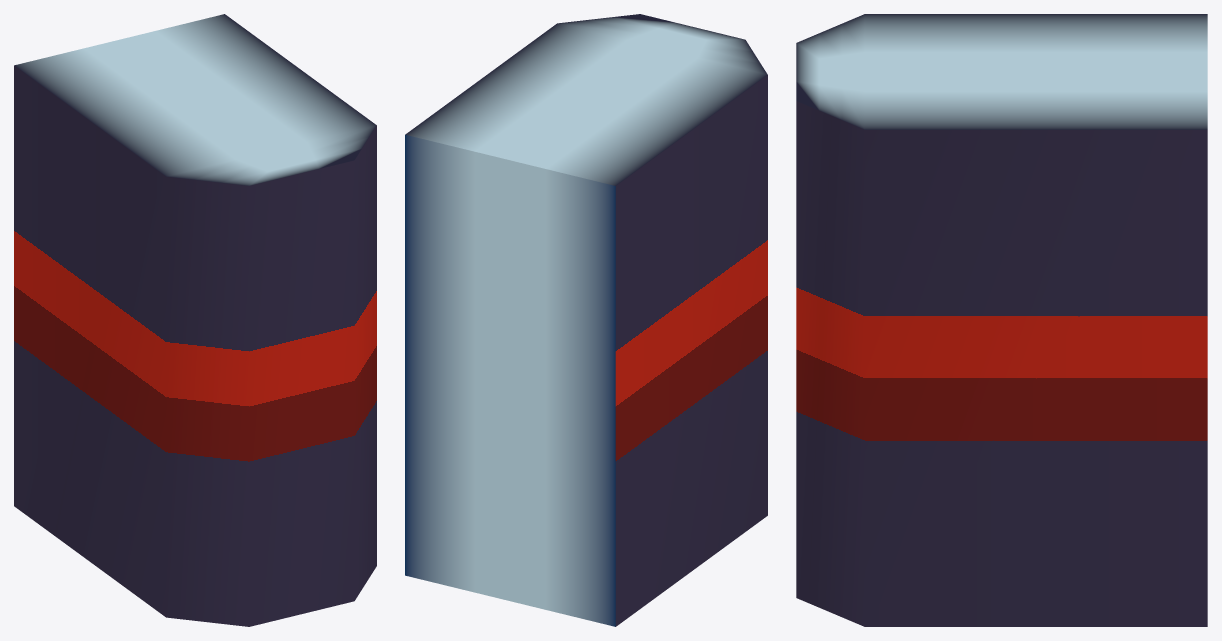
File: book_03.gltf
3 renders of one model, left to right at view 1: azimuth 30°, elevation 25°; view 2: azimuth 150°, elevation 25°; view 3: azimuth 270°, elevation 25°, orthographic. The views are drawn at different scales.
Bounding box in the file's own units: 2 × 4 × 3.
1 material, 1 textured.
